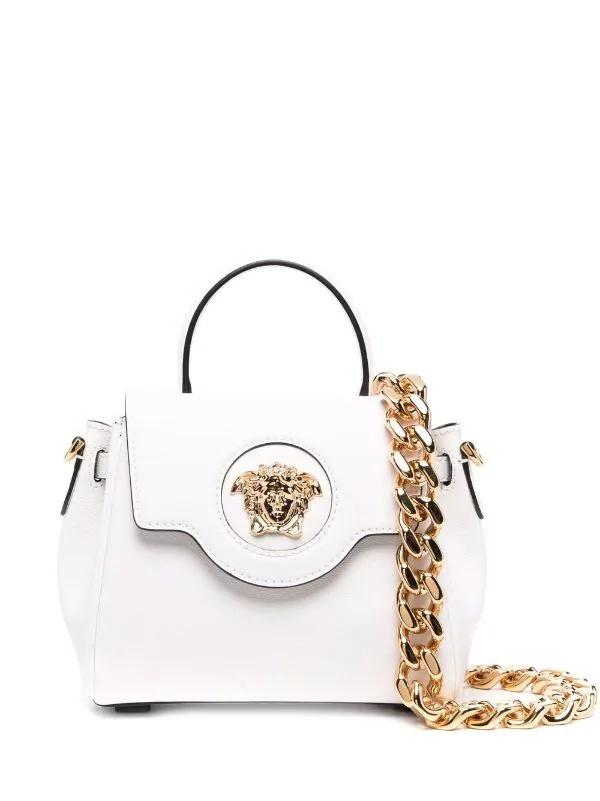VERSACE: (216, 436, 341, 556)
